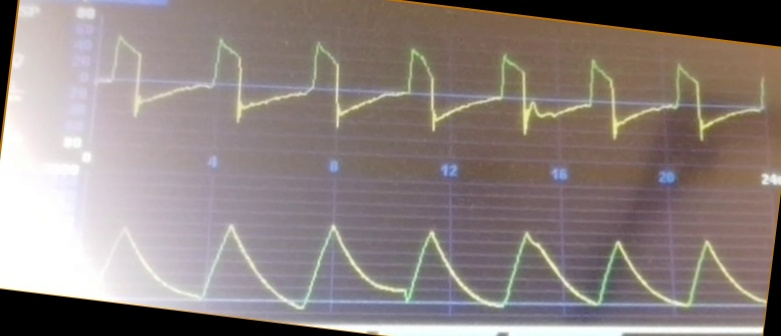Premature_cycling Flow: (100, 33, 765, 146)
Premature_cycling Volume: (99, 219, 762, 313)
